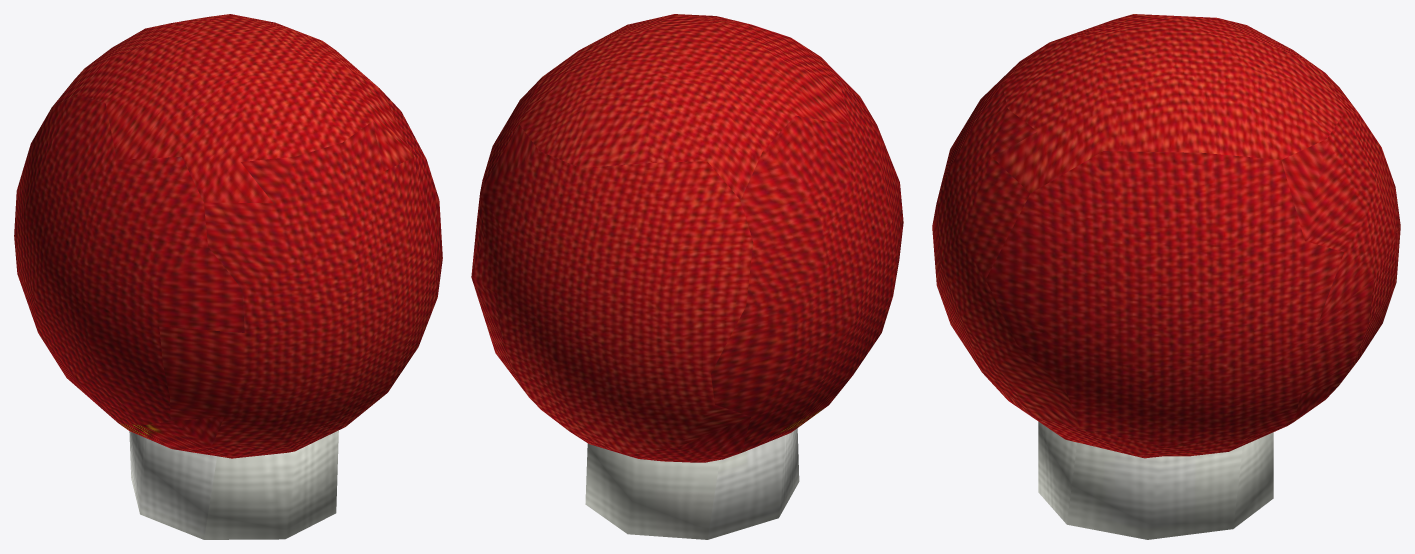
File: red.dae
3 views of the same model, side by side, from view 1: azimuth 30°, elevation 25°; view 2: azimuth 150°, elevation 25°; view 3: azimuth 270°, elevation 25° (orthographic).
Parts seen in each view (by area): view 1: Sphere; view 2: Sphere; view 3: Sphere.
Part boxes in pixels (<box>): Sphere: <box>14,14,442,539</box>; Sphere: <box>471,14,903,539</box>; Sphere: <box>932,14,1400,539</box>.
Size of the model in its own units: 0.2183 by 0.2408 by 0.2629.
Materials: 2 (2 with a texture image).
